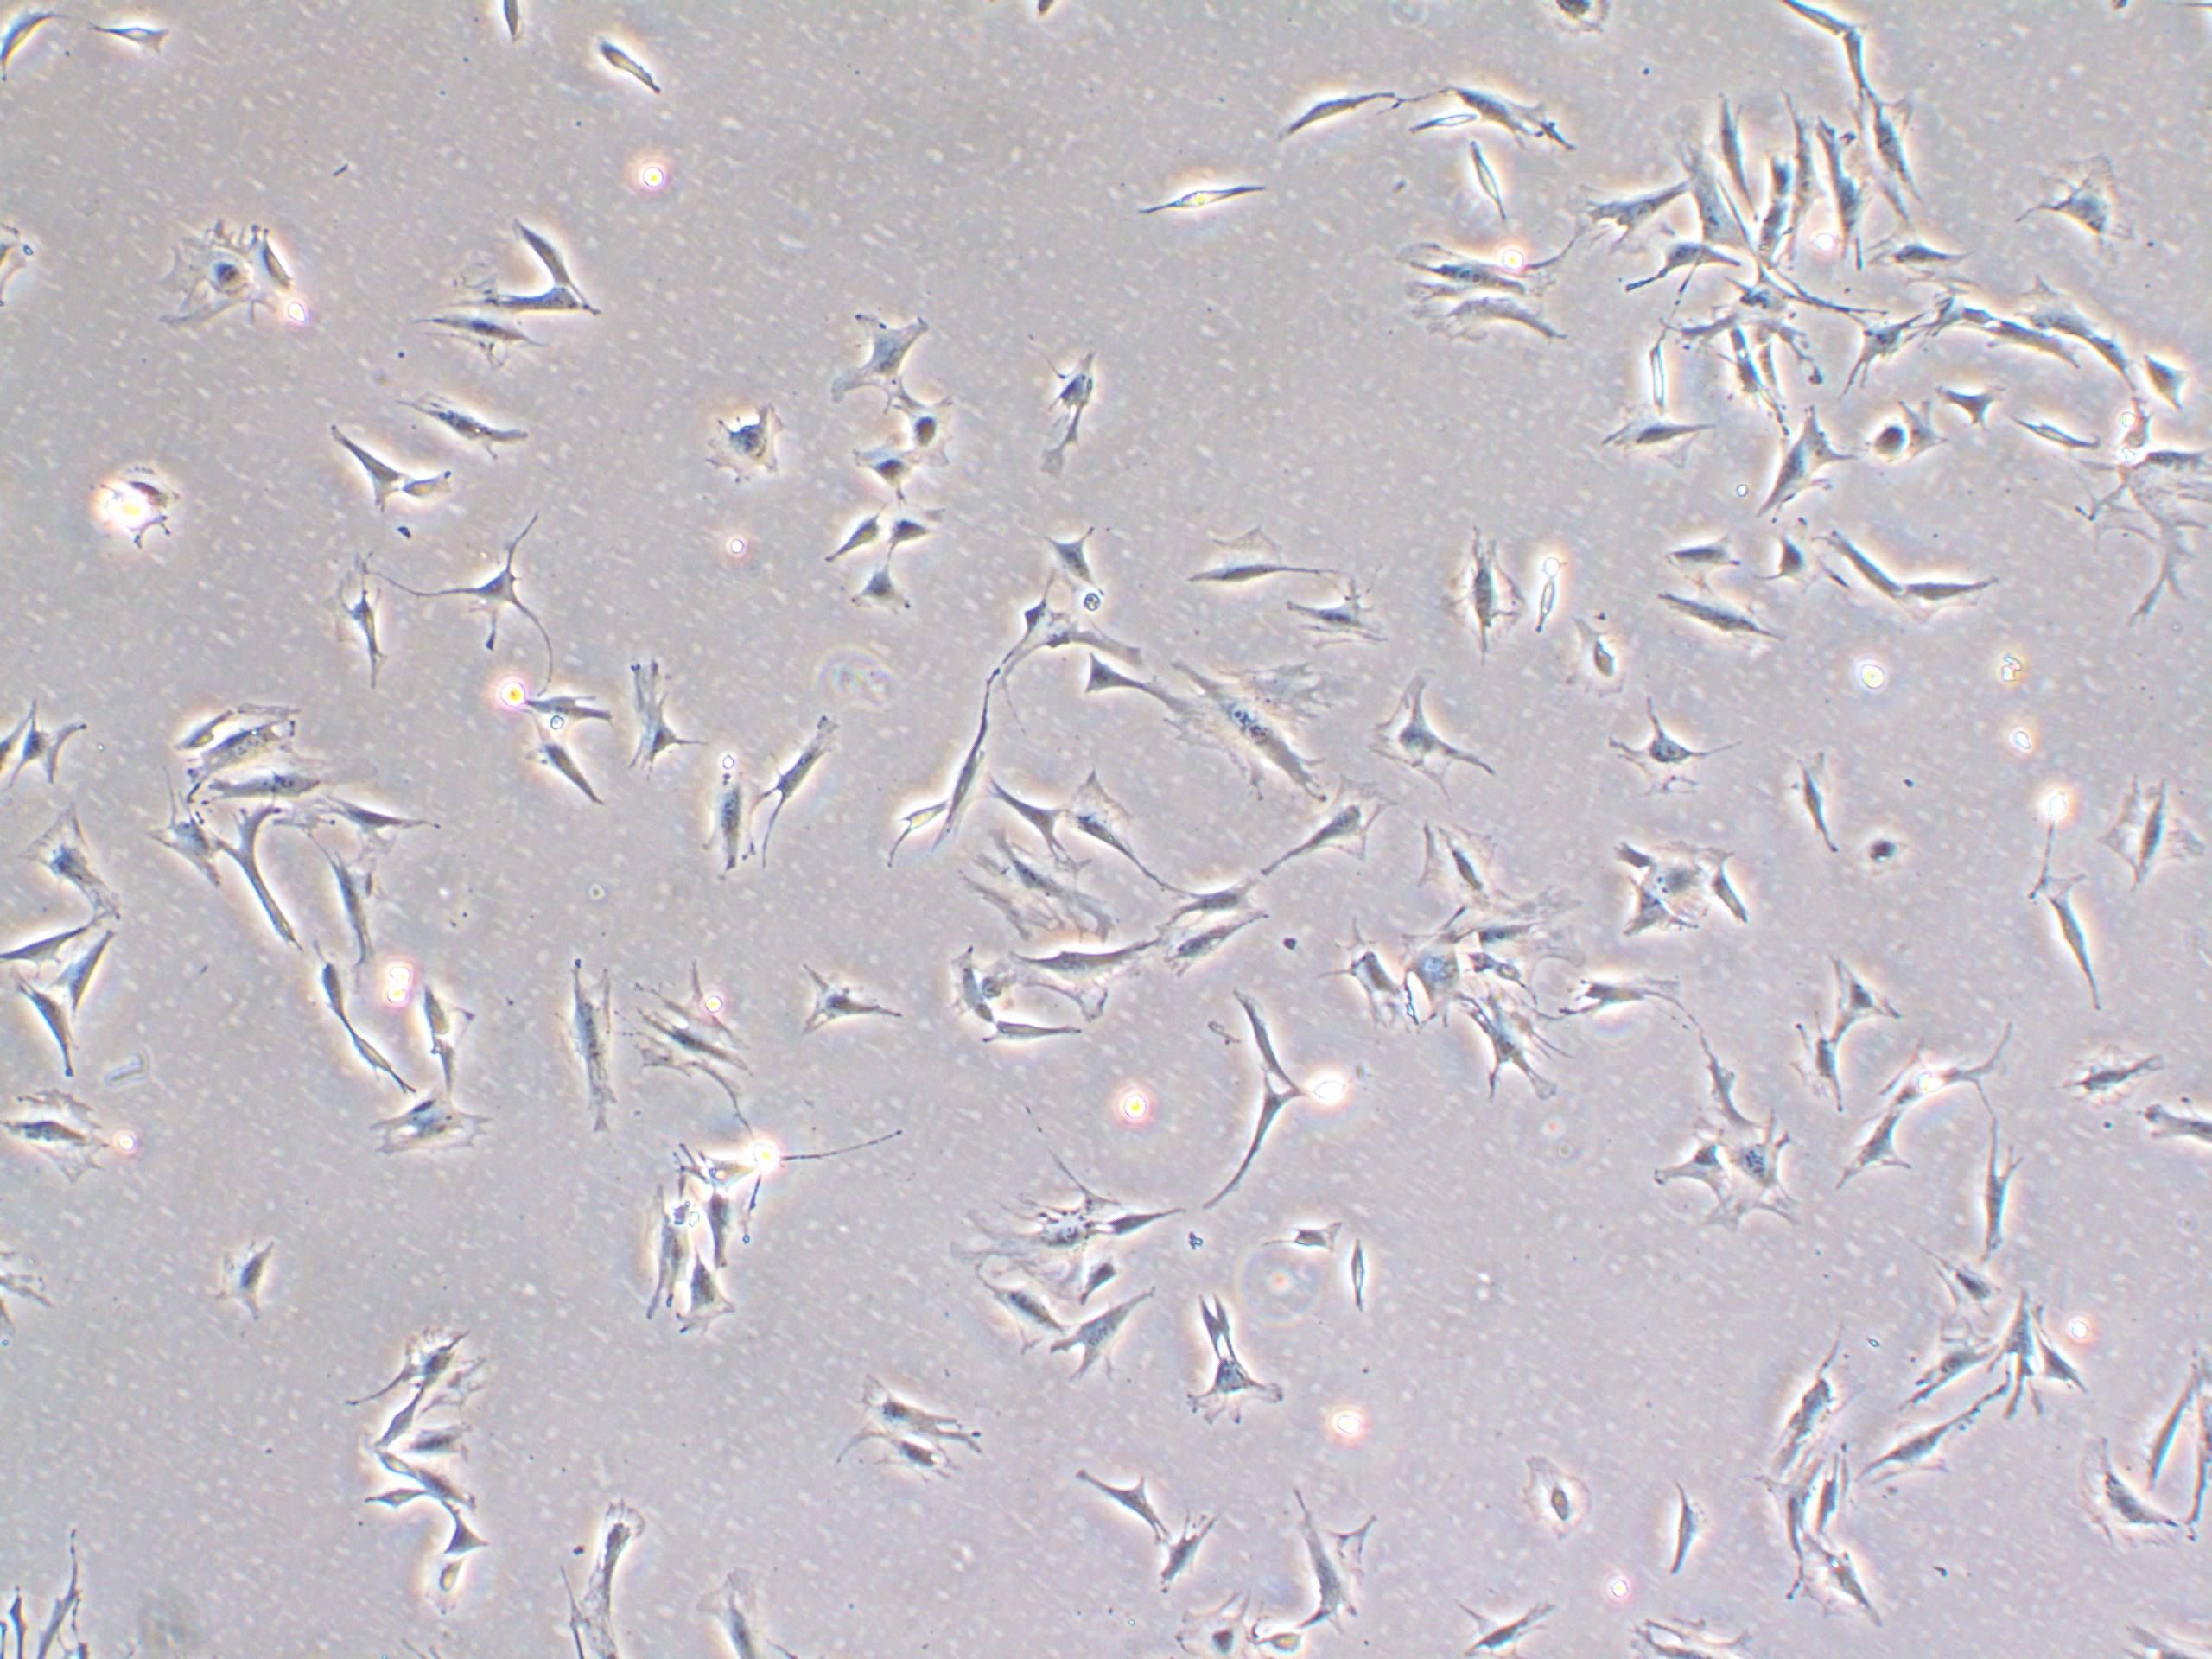Etc: (1341, 1236, 1388, 1330)
polygonal: (1271, 1467, 1393, 1635), (1371, 662, 1505, 809), (756, 694, 871, 845), (1191, 1087, 1313, 1229), (2064, 1441, 2189, 1567), (1851, 1391, 2006, 1492), (1264, 762, 1392, 882), (554, 950, 631, 1147), (3, 796, 125, 920), (1465, 997, 1580, 1122), (1026, 1302, 1157, 1412), (392, 383, 543, 477), (0, 1096, 127, 1206), (2017, 868, 2113, 1012), (340, 1084, 491, 1175), (336, 1310, 472, 1412), (1604, 706, 1749, 798), (1049, 755, 1153, 882), (1780, 1532, 1904, 1638), (228, 798, 308, 957), (1749, 408, 1853, 526), (1170, 523, 1324, 603), (613, 634, 695, 784), (1061, 1434, 1169, 1547), (1843, 84, 1933, 216), (1669, 132, 1761, 261), (305, 565, 399, 690), (1898, 1225, 2017, 1324), (129, 789, 239, 894), (314, 415, 423, 519), (556, 26, 685, 115), (1648, 586, 1803, 659), (820, 300, 928, 404), (686, 748, 773, 877), (1158, 911, 1294, 993), (1123, 160, 1275, 234), (1686, 73, 1763, 218), (820, 1371, 970, 1445), (512, 725, 622, 824), (1139, 1500, 1233, 1614), (1764, 737, 1846, 866), (624, 1182, 697, 1324), (1224, 985, 1313, 1101), (0, 978, 89, 1094), (1559, 171, 1691, 247), (932, 685, 991, 854), (967, 1004, 1103, 1077), (1451, 1586, 1587, 1659), (1745, 1450, 1817, 1588), (1273, 68, 1402, 143), (1451, 78, 1571, 159), (789, 958, 914, 1035), (460, 551, 550, 655), (1568, 408, 1742, 462), (9, 706, 103, 805), (1552, 601, 1635, 713), (399, 310, 542, 375), (679, 1253, 763, 1363), (1818, 932, 1907, 1035), (974, 1272, 1076, 1359), (1909, 1317, 1996, 1420), (305, 786, 442, 850), (1817, 112, 1871, 275), (1869, 220, 1984, 296), (1818, 521, 1909, 617), (474, 270, 597, 340), (1555, 972, 1705, 1030), (1820, 312, 1921, 396), (984, 774, 1078, 863), (1923, 373, 2019, 460), (317, 838, 380, 969), (1780, 84, 1822, 275), (209, 1215, 273, 1337), (509, 195, 589, 293), (51, 924, 129, 1021), (1630, 237, 1735, 310), (1970, 1127, 2024, 1267), (1782, 1014, 1851, 1122), (2008, 268, 2111, 340), (418, 972, 477, 1093), (1897, 561, 2008, 624), (402, 1413, 535, 1466), (1029, 521, 1111, 605), (1986, 321, 2088, 387), (411, 1516, 528, 1574), (1646, 525, 1752, 586), (1066, 655, 1158, 723), (1831, 1105, 1897, 1199), (0, 910, 98, 972), (834, 422, 918, 495), (1155, 871, 1273, 922), (524, 680, 617, 744), (1261, 1211, 1369, 1265), (857, 1439, 965, 1493), (878, 486, 948, 570), (340, 1021, 415, 1098), (359, 1382, 423, 1469), (2134, 340, 2203, 420), (303, 932, 355, 1035), (1660, 1486, 1710, 1589), (1174, 1274, 1224, 1370), (813, 500, 885, 565), (1069, 1244, 1139, 1309), (841, 558, 911, 619), (2033, 1342, 2095, 1403), (1209, 1284, 1245, 1359)
small-round: (1839, 814, 1932, 890), (420, 1540, 475, 1636), (395, 464, 465, 518), (1857, 415, 1912, 474), (1247, 1612, 1310, 1659)
spread: (138, 214, 381, 355), (1151, 659, 1366, 802), (932, 1166, 1137, 1314), (1390, 228, 1578, 350), (179, 685, 327, 838), (622, 965, 765, 1108), (963, 828, 1113, 957), (1998, 139, 2158, 256), (2092, 756, 2210, 908), (1702, 1080, 1806, 1249), (1430, 512, 1529, 666), (1615, 823, 1737, 939), (1407, 816, 1515, 927)
